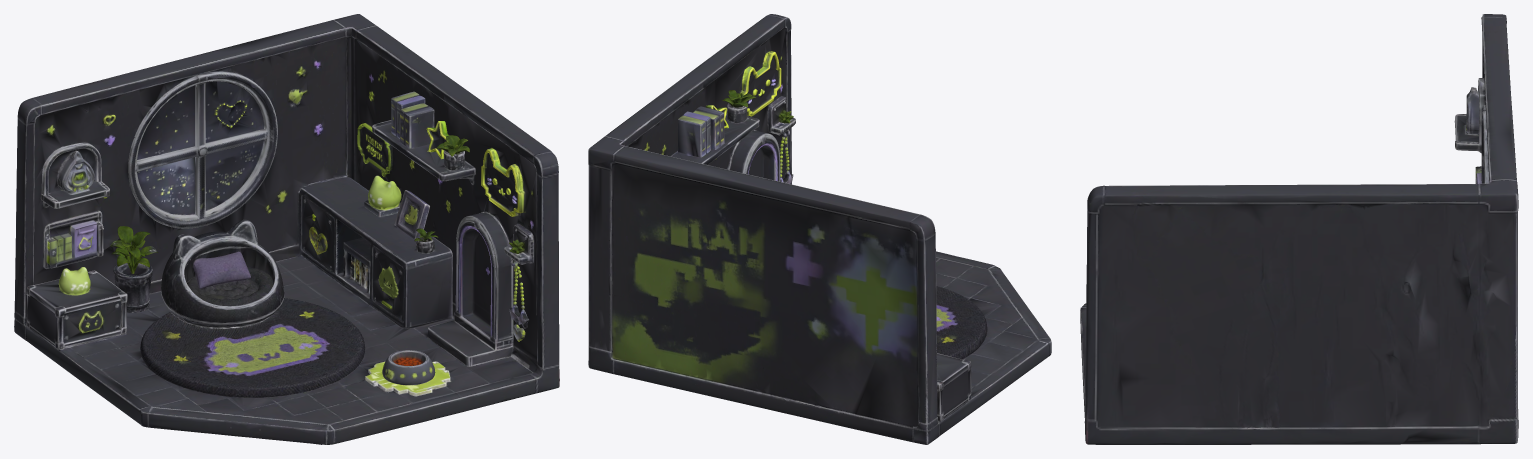
The model's file is pet-home-black.glb.
3 views of the same model, side by side, from view 1: azimuth 30°, elevation 25°; view 2: azimuth 150°, elevation 25°; view 3: azimuth 270°, elevation 25° (orthographic). The views are drawn at different scales.
Bounding box in the file's own units: 0.793 × 0.495 × 0.7807.
1 material, 1 textured.
